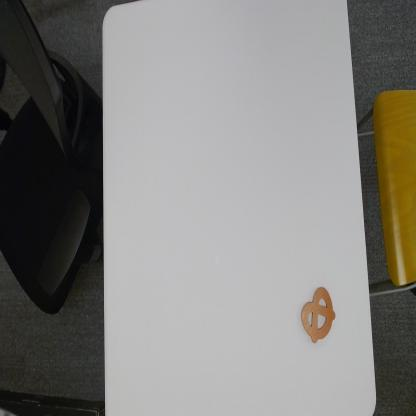Pretzel: (300, 282, 338, 345)
